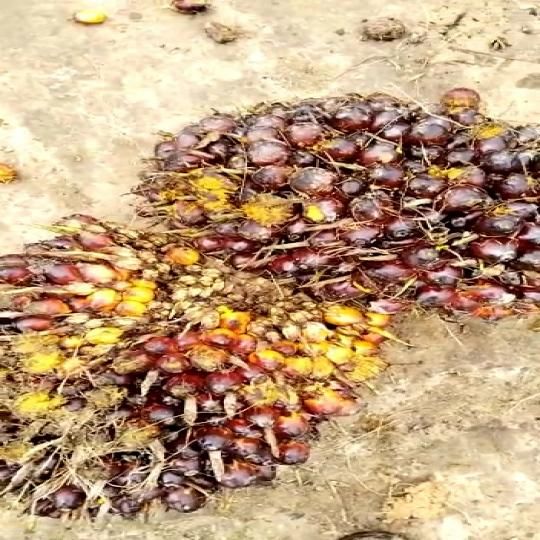kurang masak: (0, 210, 379, 527), (130, 80, 540, 332)
